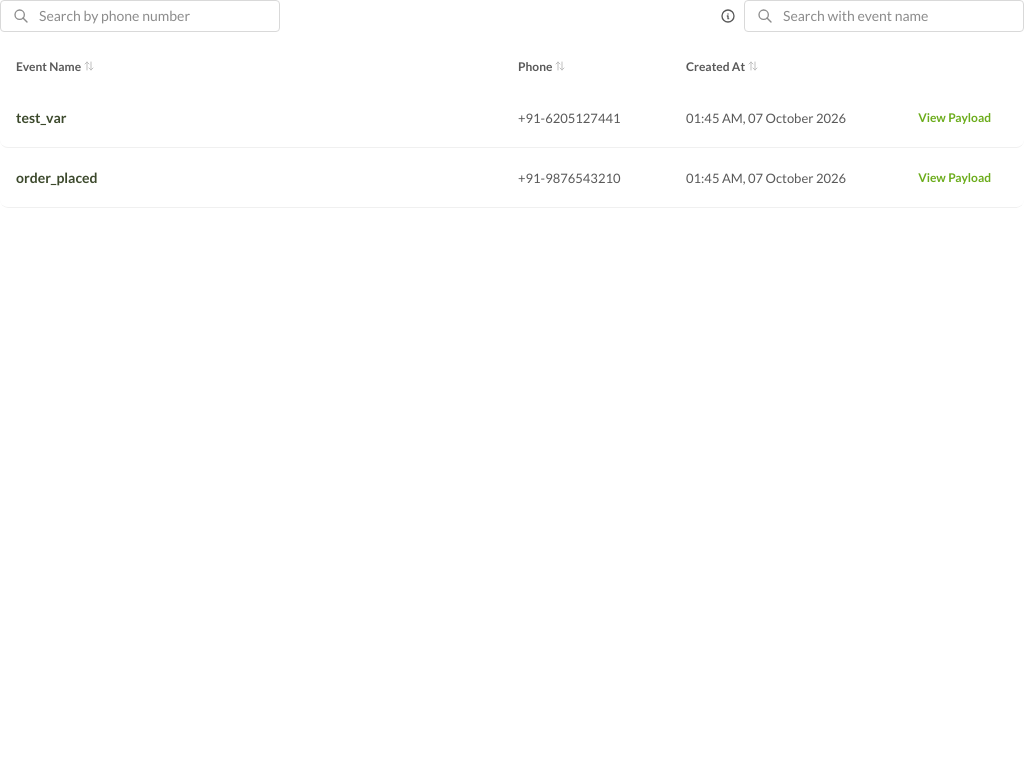
it: EventsTable › opens the payload of a row
Click the button with aria-label "View payload of order_placed" at (955, 178), box x1=905 y1=166 x2=1004 y2=190
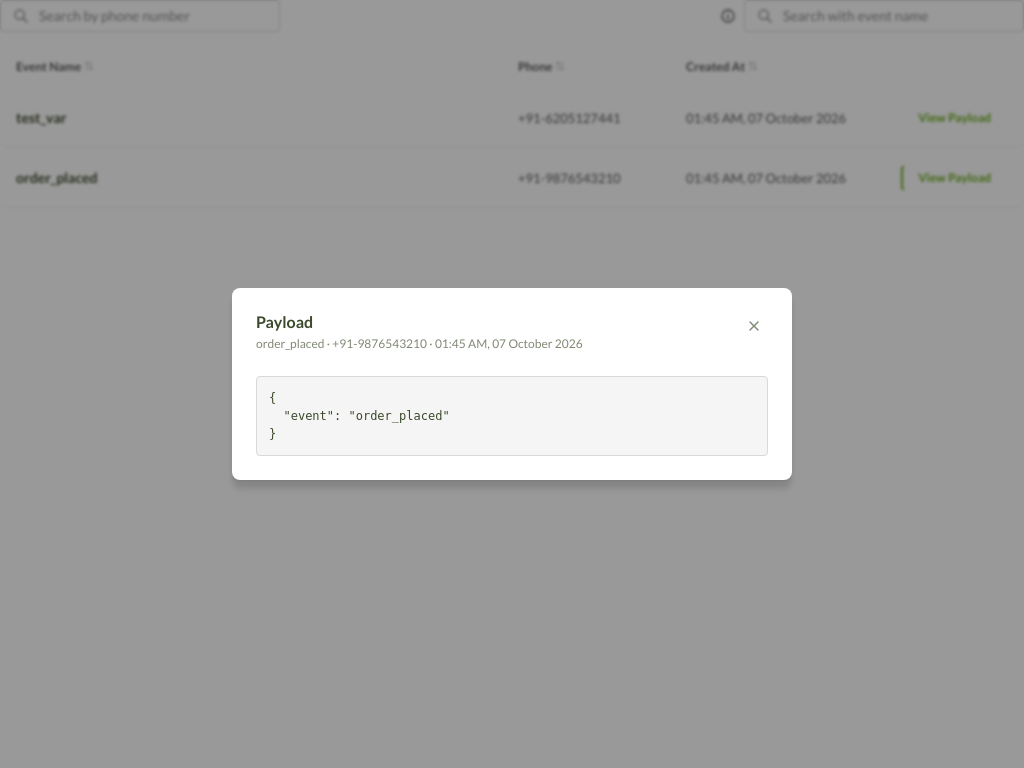
expect the dialog shows "\"event\": \"order_placed\"": met, box x1=269 y1=391 x2=450 y2=441
